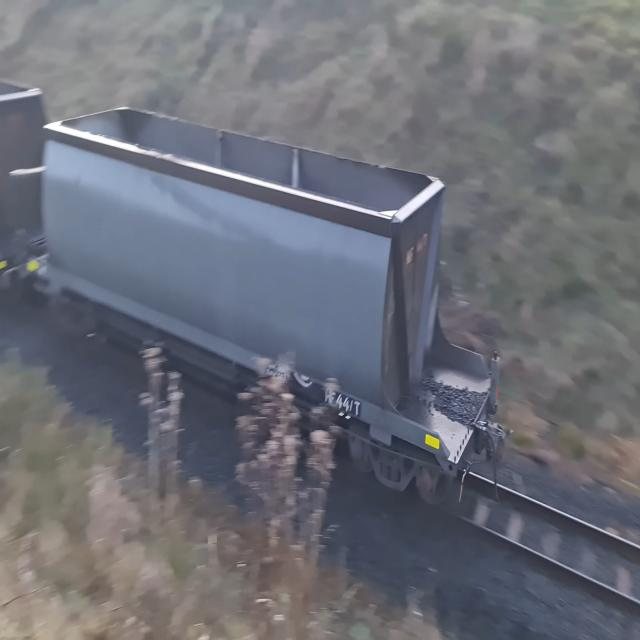hopper: (22, 88, 521, 525)
